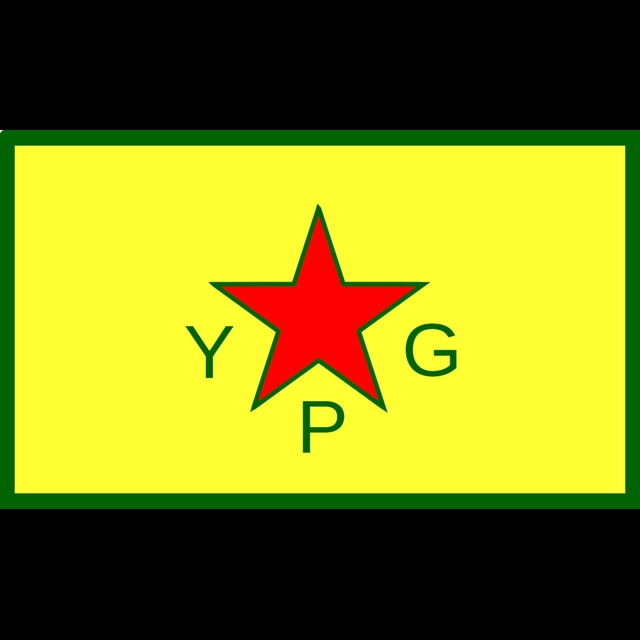YPG: (181, 193, 473, 467)
